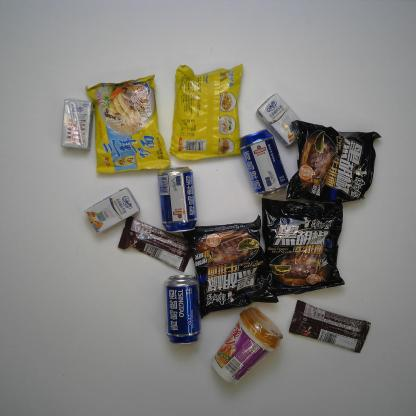Alcohol: (238, 128, 290, 198), (162, 273, 204, 345), (156, 166, 199, 234)
Chocolate: (116, 213, 194, 276), (288, 298, 372, 354)
Instant Drink: (212, 306, 284, 385)
Instant Noodles: (184, 214, 280, 320), (83, 73, 172, 174), (282, 120, 383, 209), (258, 195, 347, 296), (168, 64, 244, 161)
Milk: (83, 187, 140, 236), (256, 92, 305, 147), (60, 97, 96, 150)
